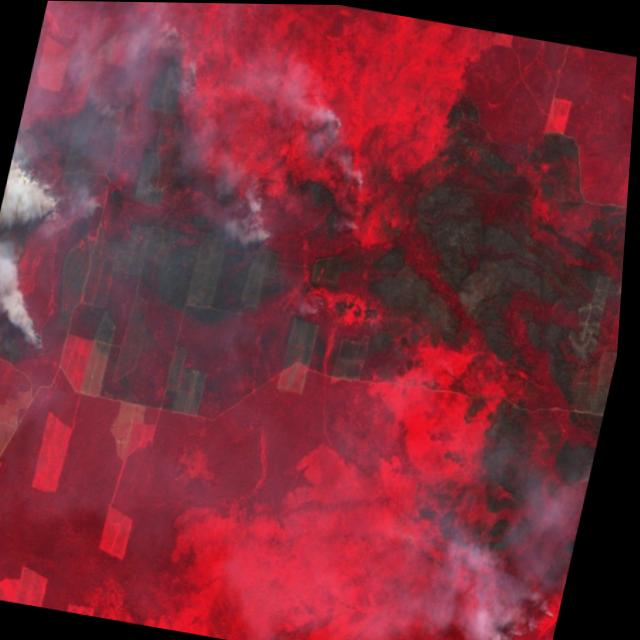fire: (0, 134, 87, 381), (103, 15, 213, 135), (482, 572, 573, 640), (298, 102, 355, 161)
